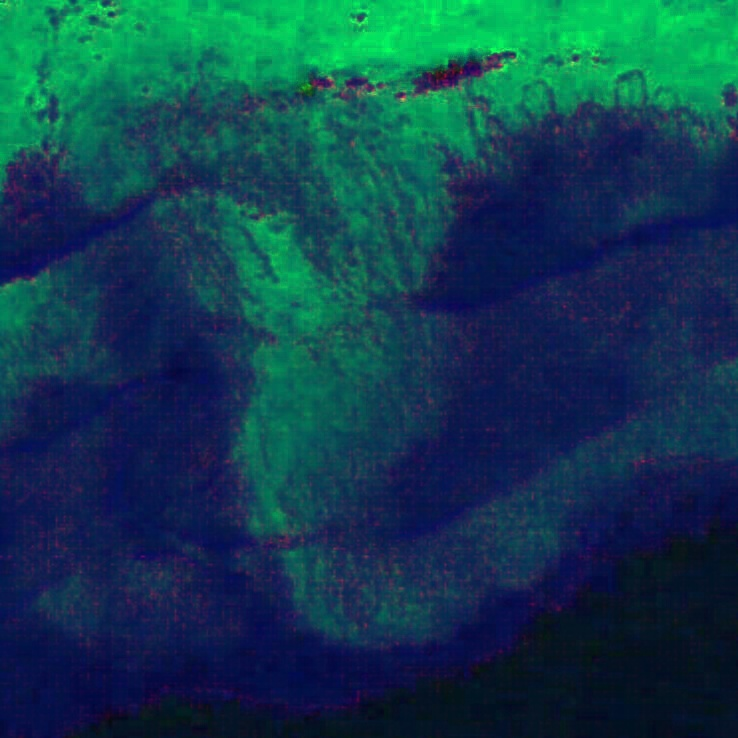rip_current: (158, 84, 464, 619)
